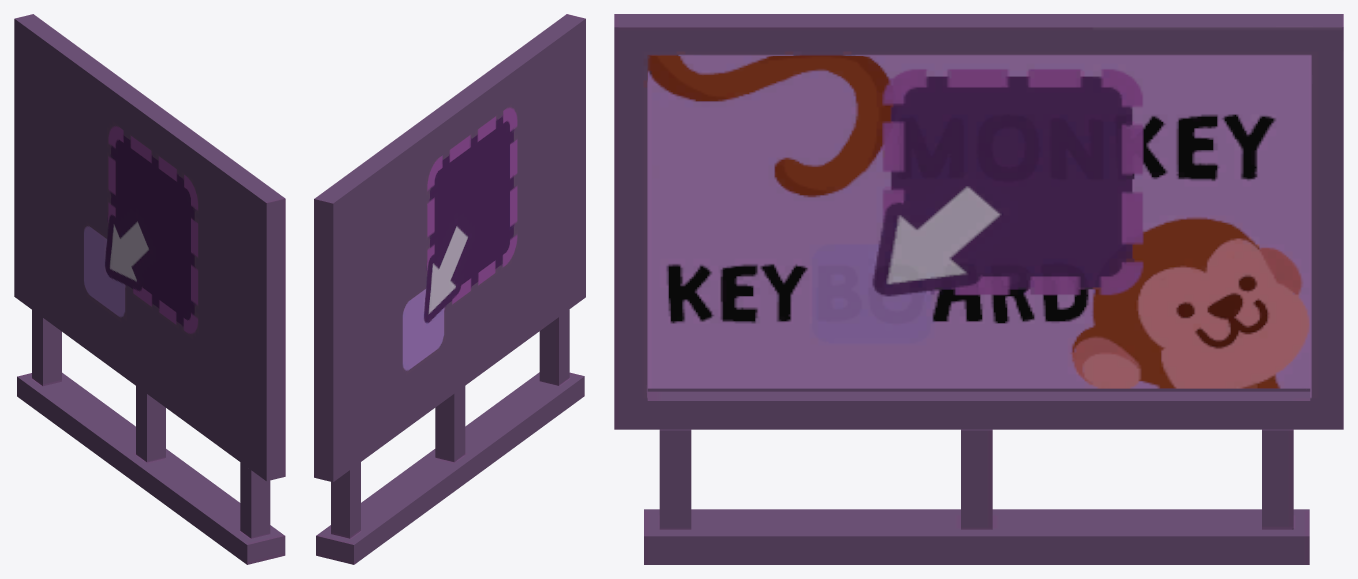
File: BillboardShrink.fbx
3 renders of one model, left to right at view 1: azimuth 30°, elevation 25°; view 2: azimuth 150°, elevation 25°; view 3: azimuth 270°, elevation 25°, orthographic. The views are drawn at different scales.
Parts seen in each view (by area): view 1: Billboard; view 2: Billboard; view 3: Billboard.
Part boxes in pixels (x1=…): Billboard: x1=14, y1=14, x2=285, y2=564; Billboard: x1=314, y1=14, x2=585, y2=564; Billboard: x1=614, y1=14, x2=1343, y2=564.
Bounding box in the file's own units: 20 × 185 × 230.
